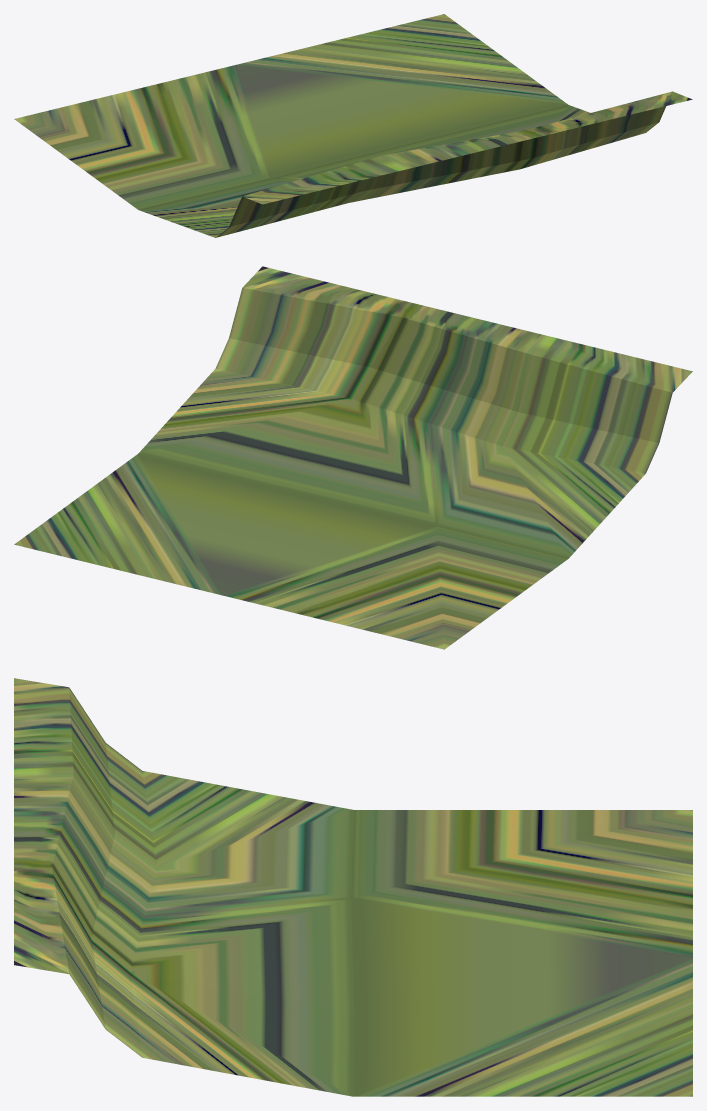
Rendered from Mesh_WaterTileEdge.fbx.
The picture shows the model from 3 angles, top to bottom: view 1: azimuth 30°, elevation 25°; view 2: azimuth 150°, elevation 25°; view 3: azimuth 270°, elevation 25°; orthographic projection. The views are drawn at different scales.
Parts seen in each view (by area): view 1: WaterTileEdge; view 2: WaterTileEdge; view 3: WaterTileEdge.
Boxes of the visible parts, left/top/right/bottom form: WaterTileEdge: left=14, top=14, right=692, bottom=237; WaterTileEdge: left=14, top=266, right=692, bottom=649; WaterTileEdge: left=14, top=678, right=692, bottom=1096.
Bounding box in the file's own units: 10000 × 2140 × 10000.
